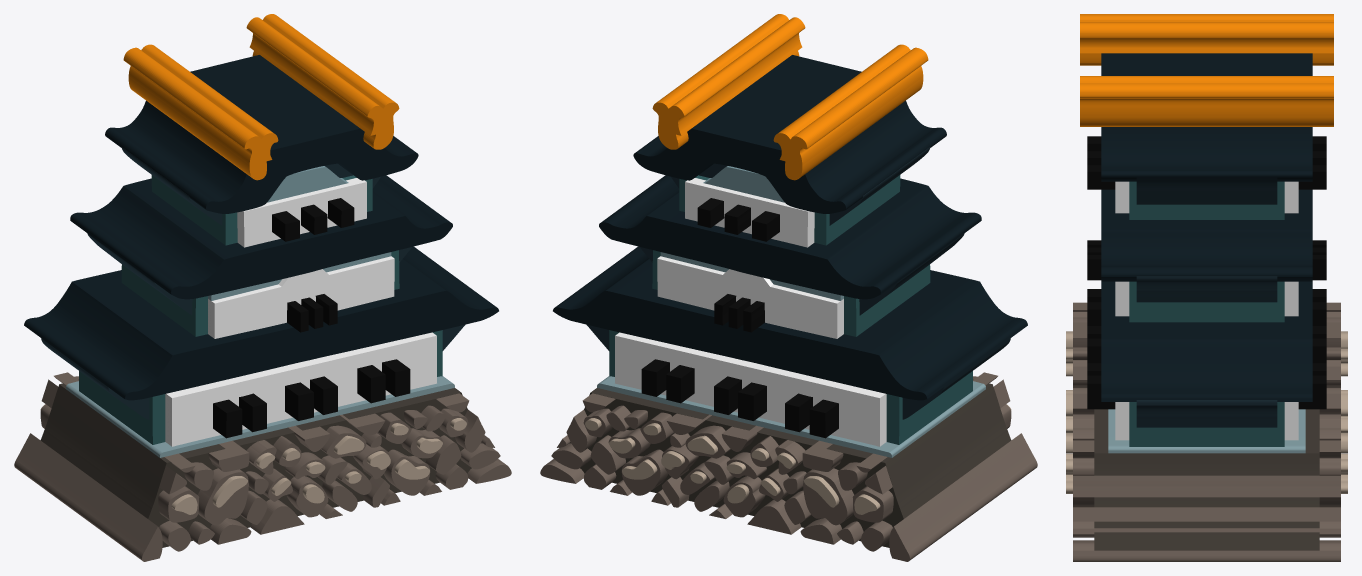
3 renders of one model, left to right at view 1: azimuth 30°, elevation 25°; view 2: azimuth 150°, elevation 25°; view 3: azimuth 270°, elevation 25°, orthographic. The views are drawn at different scales.
Visible parts, largest first — view 1: U+1F3EF_layer05_obj00, U+1F3EF_layer05_obj01, U+1F3EF_layer05_obj02, U+1F3EF_layer06_obj00, U+1F3EF_layer03_obj02, U+1F3EF_layer08_obj00, U+1F3EF_layer08_obj01, U+1F3EF_layer09_obj32, U+1F3EF_layer03_obj03, U+1F3EF_layer03_obj00, U+1F3EF_layer04_obj00, U+1F3EF_layer03_obj01 (+33 smaller); view 2: U+1F3EF_layer05_obj00, U+1F3EF_layer05_obj01, U+1F3EF_layer05_obj02, U+1F3EF_layer06_obj00, U+1F3EF_layer03_obj02, U+1F3EF_layer08_obj00, U+1F3EF_layer08_obj01, U+1F3EF_layer09_obj32, U+1F3EF_layer03_obj03, U+1F3EF_layer03_obj00, U+1F3EF_layer04_obj00, U+1F3EF_layer03_obj01 (+33 smaller); view 3: U+1F3EF_layer05_obj00, U+1F3EF_layer05_obj02, U+1F3EF_layer06_obj00, U+1F3EF_layer05_obj01, U+1F3EF_layer08_obj01, U+1F3EF_layer08_obj00, U+1F3EF_layer09_obj26, U+1F3EF_layer09_obj42, U+1F3EF_layer00_obj00, U+1F3EF_layer00_obj01, U+1F3EF_layer00_obj02, U+1F3EF_layer09_obj27 (+26 smaller).
Part boxes in pixels (<box>): U+1F3EF_layer05_obj00: <box>24,246,498,400</box>; U+1F3EF_layer05_obj01: <box>70,175,452,299</box>; U+1F3EF_layer05_obj02: <box>105,55,418,213</box>; U+1F3EF_layer06_obj00: <box>40,379,482,547</box>; U+1F3EF_layer03_obj02: <box>165,332,436,446</box>; U+1F3EF_layer08_obj00: <box>123,44,278,180</box>; U+1F3EF_layer08_obj01: <box>246,14,399,149</box>; U+1F3EF_layer09_obj32: <box>14,433,162,561</box>; U+1F3EF_layer03_obj03: <box>208,256,394,338</box>; U+1F3EF_layer03_obj00: <box>237,178,366,247</box>; U+1F3EF_layer04_obj00: <box>66,376,454,457</box>; U+1F3EF_layer03_obj01: <box>239,269,371,333</box>; U+1F3EF_layer05_obj00: <box>553,246,1027,400</box>; U+1F3EF_layer05_obj01: <box>599,175,981,299</box>; U+1F3EF_layer05_obj02: <box>633,55,946,213</box>; U+1F3EF_layer06_obj00: <box>569,379,1011,547</box>; U+1F3EF_layer03_obj02: <box>615,332,886,446</box>; U+1F3EF_layer08_obj00: <box>773,44,928,180</box>; U+1F3EF_layer08_obj01: <box>652,14,805,149</box>; U+1F3EF_layer09_obj32: <box>889,433,1037,561</box>; U+1F3EF_layer03_obj03: <box>657,256,843,338</box>; U+1F3EF_layer03_obj00: <box>685,178,814,247</box>; U+1F3EF_layer04_obj00: <box>597,376,985,457</box>; U+1F3EF_layer03_obj01: <box>681,269,812,333</box>; U+1F3EF_layer05_obj00: <box>1101,281,1312,401</box>; U+1F3EF_layer05_obj02: <box>1101,53,1312,181</box>; U+1F3EF_layer06_obj00: <box>1094,409,1319,550</box>; U+1F3EF_layer05_obj01: <box>1101,189,1312,281</box>; U+1F3EF_layer08_obj01: <box>1080,76,1333,126</box>; U+1F3EF_layer08_obj00: <box>1080,14,1333,65</box>; U+1F3EF_layer09_obj26: <box>1073,475,1340,507</box>; U+1F3EF_layer09_obj42: <box>1073,507,1340,521</box>; U+1F3EF_layer00_obj00: <box>1136,177,1277,204</box>; U+1F3EF_layer00_obj01: <box>1136,400,1277,427</box>; U+1F3EF_layer00_obj02: <box>1136,276,1277,302</box>; U+1F3EF_layer09_obj27: <box>1073,540,1340,561</box>.
Size of the model in its own units: 0.3223 by 0.3284 by 0.2.
